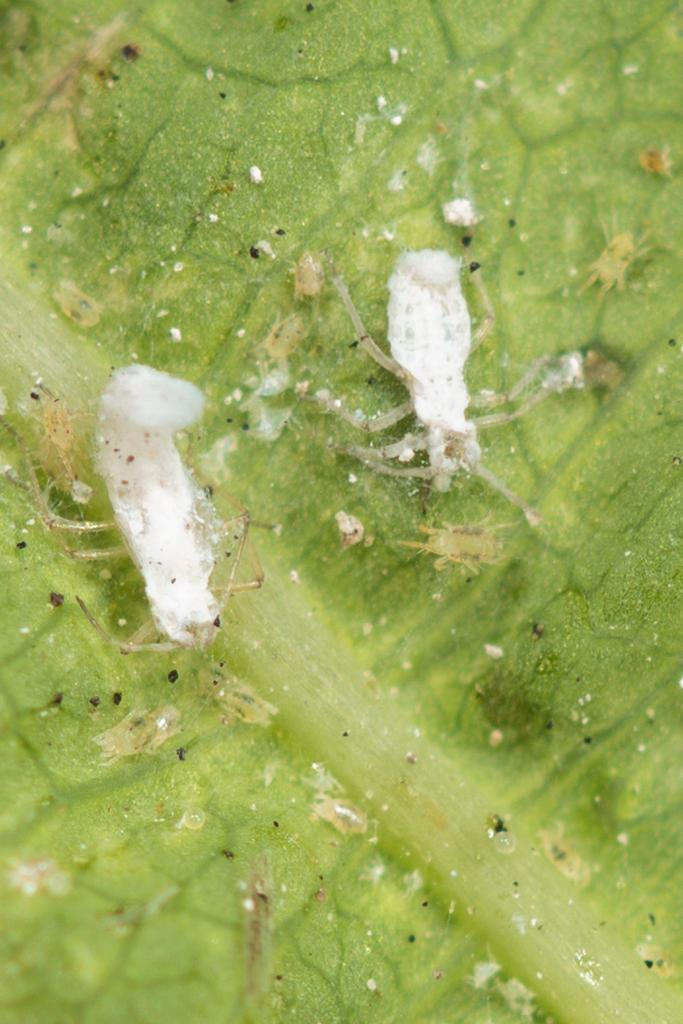tiny_pests: (266, 163, 600, 581), (4, 286, 309, 709)
